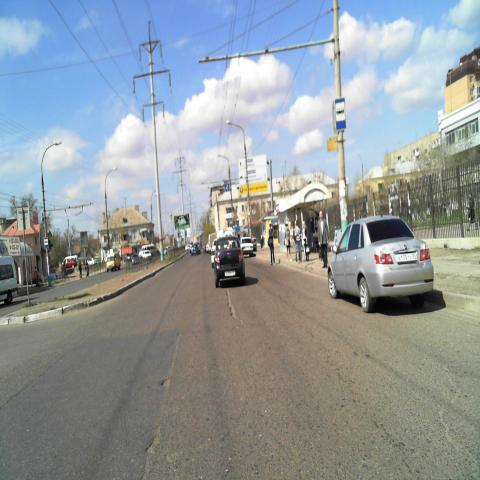5_16: (334, 98, 346, 130)
